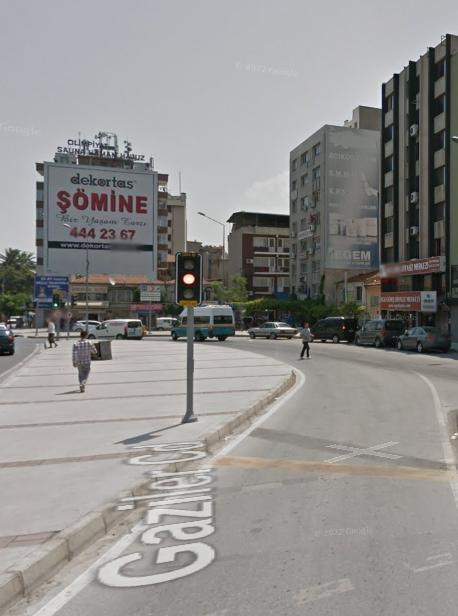greenlight: (104, 55, 125, 59)
yellowlight: (177, 252, 180, 256)
